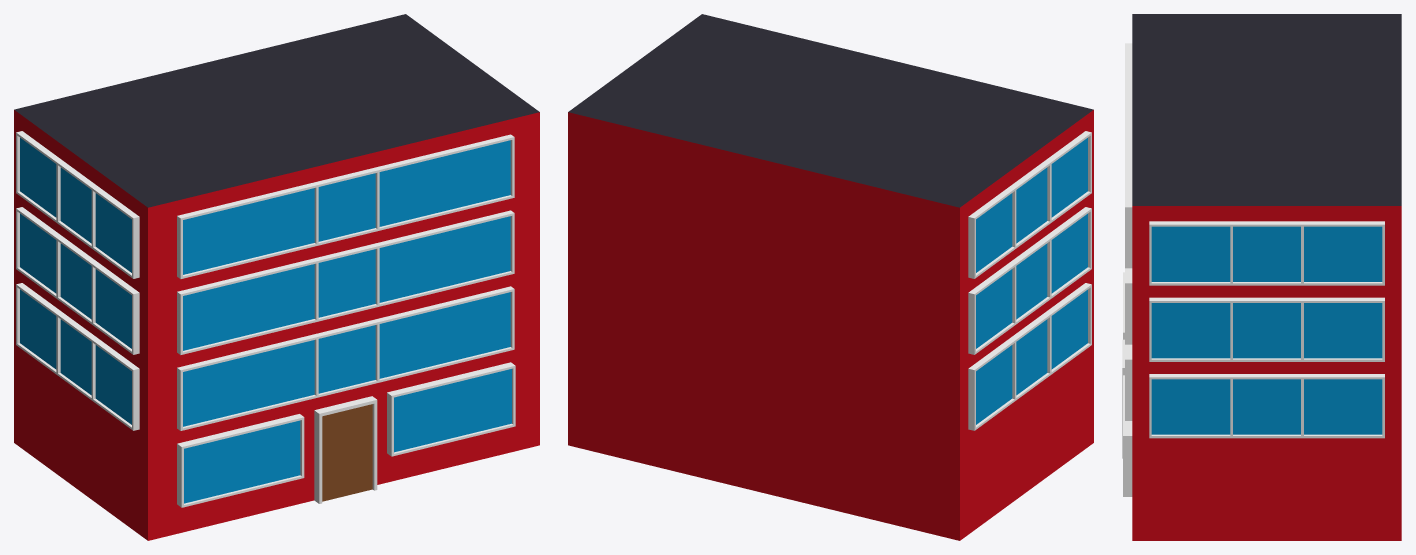
File: Building_05.fbx
3 views of the same model, side by side, from view 1: azimuth 30°, elevation 25°; view 2: azimuth 150°, elevation 25°; view 3: azimuth 270°, elevation 25° (orthographic).
Visible parts, largest first — view 1: B5; view 2: B5; view 3: B5.
Boxes of the visible parts, x1,y1,x2,y2 form: B5: (14, 14, 539, 540); B5: (568, 14, 1093, 540); B5: (1122, 14, 1401, 540).
Size of the model in its own units: 13.94 by 10.97 by 8.3.
1 material, 1 textured.
